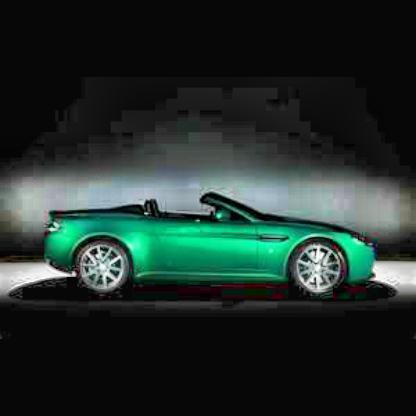Aston Martin V8 Vantage Convertible 2012: (42, 190, 380, 303)
